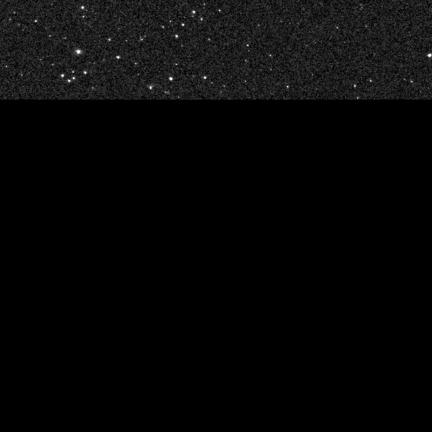blob: (192, 11, 196, 15), (84, 71, 88, 75), (61, 75, 65, 78), (170, 77, 173, 81), (204, 76, 207, 80), (116, 56, 120, 59), (176, 35, 179, 38), (182, 24, 185, 27), (428, 54, 431, 57)
